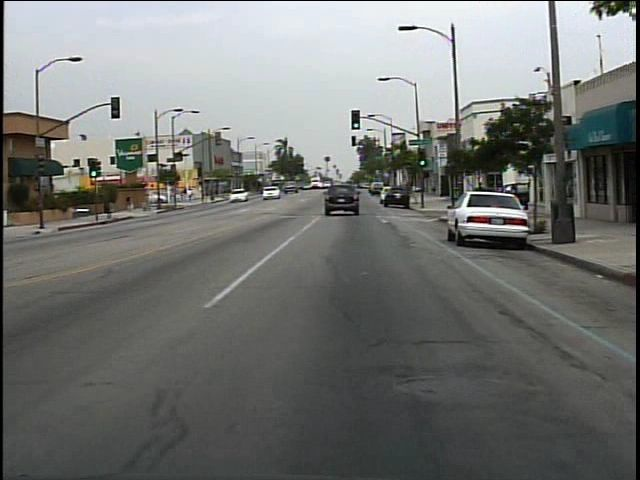person: (470, 178, 490, 217), (122, 193, 141, 221), (186, 187, 195, 205)
